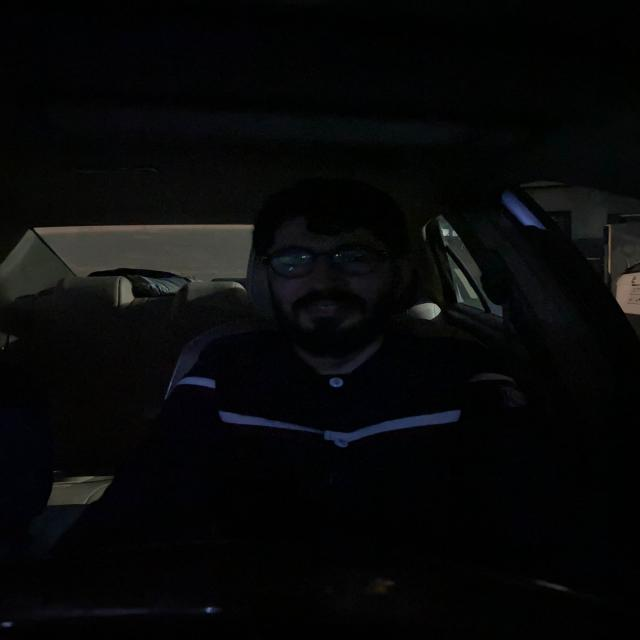person: (250, 181, 410, 352)
